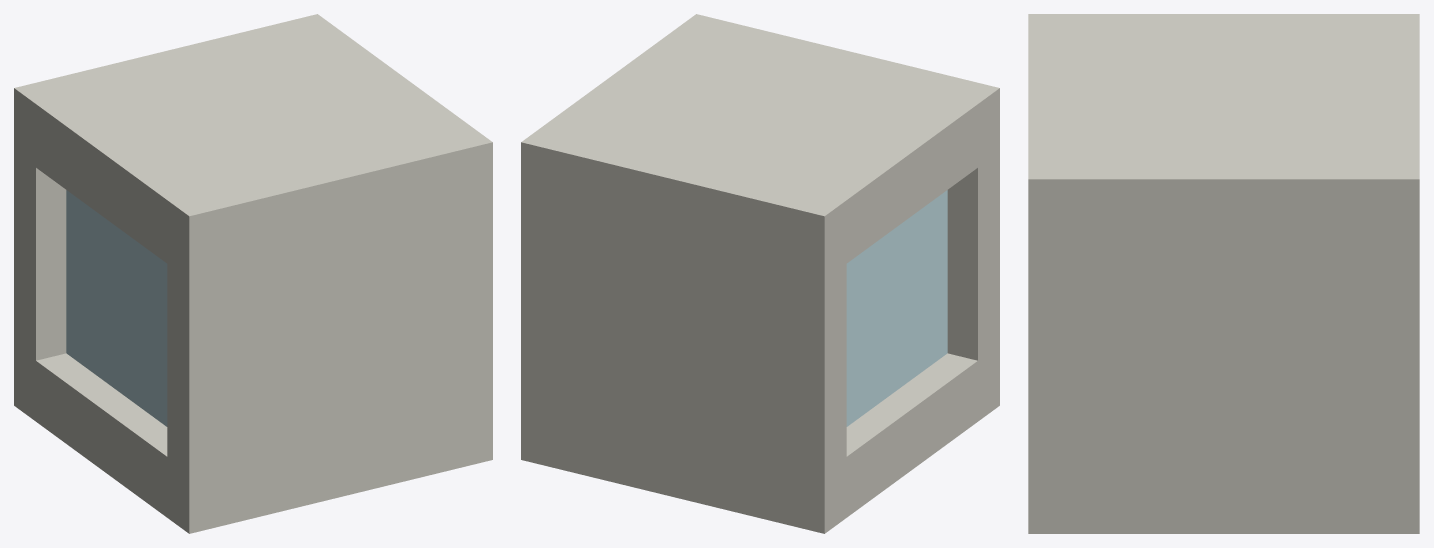
Rendered from Building Story 18.fbx.
3 views of the same model, side by side, from view 1: azimuth 30°, elevation 25°; view 2: azimuth 150°, elevation 25°; view 3: azimuth 270°, elevation 25° (orthographic). The views are drawn at different scales.
Parts seen in each view (by area): view 1: Building Story 18; view 2: Building Story 18; view 3: Building Story 18.
Part boxes in pixels (x1,y1,x2,y2): Building Story 18: (14, 14, 492, 533); Building Story 18: (521, 14, 999, 533); Building Story 18: (1028, 14, 1419, 533).
Size of the model in its own units: 1 by 1 by 1.
